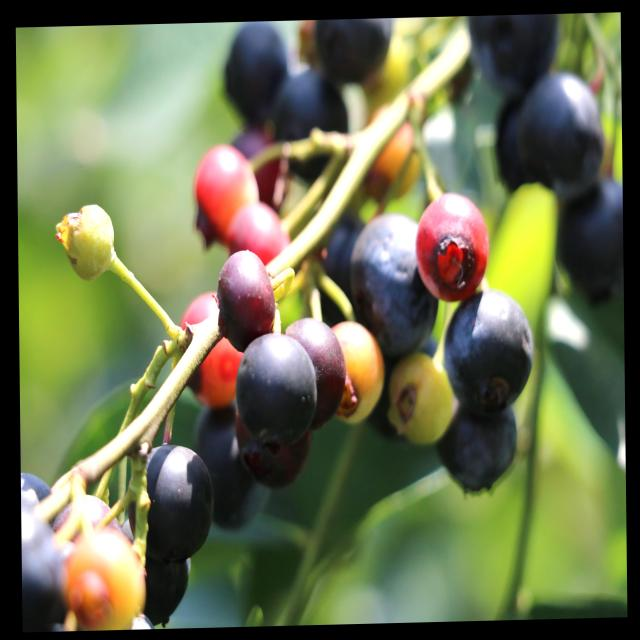blueberry: (495, 80, 604, 195), (353, 211, 440, 344), (122, 438, 215, 558), (445, 291, 534, 409), (232, 336, 312, 445), (437, 404, 518, 493), (294, 312, 348, 426)
blueberry-halfripe: (414, 189, 492, 306), (65, 523, 148, 631), (175, 283, 244, 409), (194, 142, 259, 244), (222, 242, 275, 340), (225, 200, 290, 270)
blueberry-unripe: (389, 350, 456, 441), (330, 318, 386, 423), (62, 196, 122, 287)
